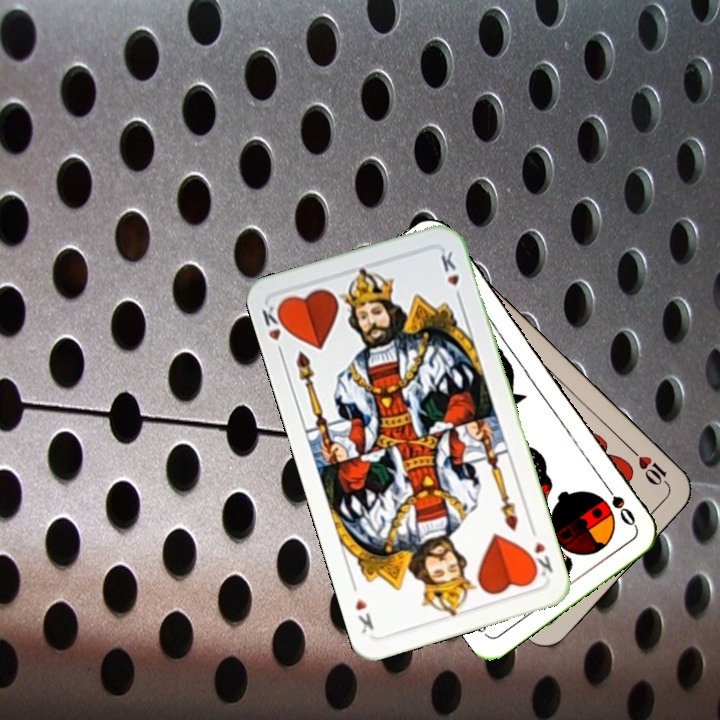H10: (627, 445, 674, 491)
HK: (257, 298, 291, 359), (524, 523, 556, 580)
SO: (598, 477, 639, 529)
